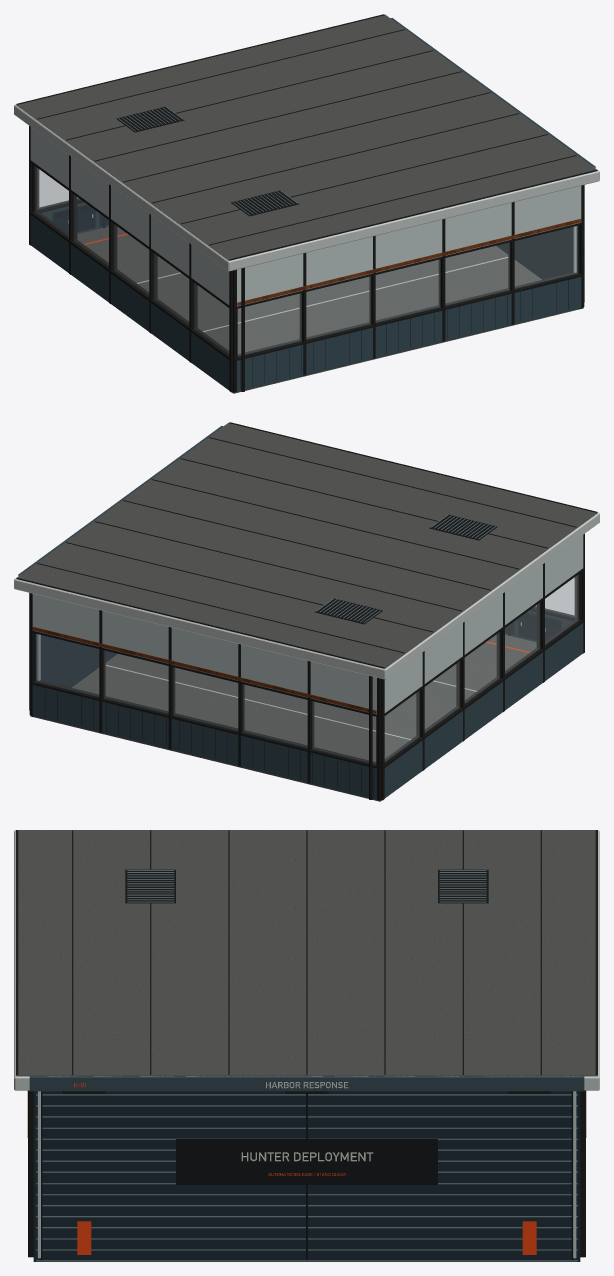
The model's file is response-station.glb.
3 renders of one model, top to bottom at view 1: azimuth 30°, elevation 25°; view 2: azimuth 150°, elevation 25°; view 3: azimuth 270°, elevation 25°, orthographic. The views are drawn at different scales.
Parts seen in each view (by area): view 1: MESH_RESPONSE_STATION_RS_CONCRETE_LOD0, MESH_RESPONSE_STATION_RS_GLASS_LOD0, MESH_RESPONSE_STATION_RS_STEEL_LOD0, MESH_RESPONSE_STATION_RS_RP05_SATIN_ALUMINIUM_LOD0, MESH_RESPONSE_STATION_RS_RP05_COATED_NAVY_LOD0, MESH_RESPONSE_STATION_RS_RP05_CEILING_LOD0, MESH_RESPONSE_STATION_RS_PALETTE_LOD0, MESH_RESPONSE_STATION_HUNTER_GATE_LOD0, MESH_RESPONSE_STATION_RS_SHEET_LOD0; view 2: MESH_RESPONSE_STATION_RS_CONCRETE_LOD0, MESH_RESPONSE_STATION_RS_GLASS_LOD0, MESH_RESPONSE_STATION_RS_STEEL_LOD0, MESH_RESPONSE_STATION_RS_RP05_SATIN_ALUMINIUM_LOD0, MESH_RESPONSE_STATION_RS_RP05_COATED_NAVY_LOD0, MESH_RESPONSE_STATION_RS_RP05_CEILING_LOD0, MESH_RESPONSE_STATION_RS_PALETTE_LOD0, MESH_RESPONSE_STATION_HUNTER_GATE_LOD0, MESH_RESPONSE_STATION_RS_SHEET_LOD0; view 3: MESH_RESPONSE_STATION_RS_CONCRETE_LOD0, MESH_RESPONSE_STATION_HUNTER_GATE_LOD0, MESH_RESPONSE_STATION_RS_RP05_COATED_NAVY_LOD0, MESH_RESPONSE_STATION_RS_STEEL_LOD0, MESH_RESPONSE_STATION_RS_PALETTE_LOD0, MESH_RESPONSE_STATION_RS_RP05_CEILING_LOD0, MESH_RESPONSE_STATION_RS_RP05_SATIN_ALUMINIUM_LOD0.
Boxes of the visible parts, left/top/right/bottom form: MESH_RESPONSE_STATION_RS_CONCRETE_LOD0: left=16, top=15, right=597, bottom=393; MESH_RESPONSE_STATION_RS_GLASS_LOD0: left=35, top=167, right=577, bottom=355; MESH_RESPONSE_STATION_RS_STEEL_LOD0: left=17, top=14, right=597, bottom=392; MESH_RESPONSE_STATION_RS_RP05_SATIN_ALUMINIUM_LOD0: left=30, top=127, right=584, bottom=306; MESH_RESPONSE_STATION_RS_RP05_COATED_NAVY_LOD0: left=30, top=18, right=595, bottom=391; MESH_RESPONSE_STATION_RS_RP05_CEILING_LOD0: left=14, top=14, right=599, bottom=271; MESH_RESPONSE_STATION_RS_PALETTE_LOD0: left=52, top=106, right=568, bottom=389; MESH_RESPONSE_STATION_HUNTER_GATE_LOD0: left=496, top=225, right=583, bottom=309; MESH_RESPONSE_STATION_RS_SHEET_LOD0: left=237, top=218, right=581, bottom=305; MESH_RESPONSE_STATION_RS_CONCRETE_LOD0: left=16, top=423, right=597, bottom=801; MESH_RESPONSE_STATION_RS_GLASS_LOD0: left=36, top=575, right=578, bottom=763; MESH_RESPONSE_STATION_RS_STEEL_LOD0: left=16, top=422, right=596, bottom=800; MESH_RESPONSE_STATION_RS_RP05_SATIN_ALUMINIUM_LOD0: left=29, top=535, right=583, bottom=714; MESH_RESPONSE_STATION_RS_RP05_COATED_NAVY_LOD0: left=18, top=426, right=583, bottom=799; MESH_RESPONSE_STATION_RS_RP05_CEILING_LOD0: left=14, top=422, right=599, bottom=679; MESH_RESPONSE_STATION_RS_PALETTE_LOD0: left=45, top=514, right=561, bottom=797; MESH_RESPONSE_STATION_HUNTER_GATE_LOD0: left=30, top=633, right=117, bottom=717; MESH_RESPONSE_STATION_RS_SHEET_LOD0: left=32, top=626, right=376, bottom=713; MESH_RESPONSE_STATION_RS_CONCRETE_LOD0: left=16, top=830, right=597, bottom=1076; MESH_RESPONSE_STATION_HUNTER_GATE_LOD0: left=33, top=1091, right=580, bottom=1261; MESH_RESPONSE_STATION_RS_RP05_COATED_NAVY_LOD0: left=29, top=1076, right=584, bottom=1091; MESH_RESPONSE_STATION_RS_STEEL_LOD0: left=16, top=830, right=597, bottom=1257; MESH_RESPONSE_STATION_RS_PALETTE_LOD0: left=74, top=869, right=488, bottom=1088; MESH_RESPONSE_STATION_RS_RP05_CEILING_LOD0: left=14, top=830, right=599, bottom=1090; MESH_RESPONSE_STATION_RS_RP05_SATIN_ALUMINIUM_LOD0: left=37, top=1091, right=576, bottom=1258.
Size of what is drawn, in the model's own units: 15.06 by 5.45 by 15.
11 materials, 6 textured.
